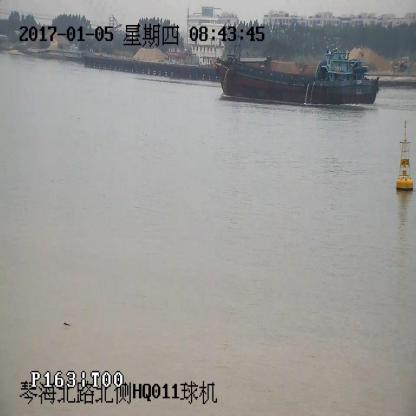Bulk Carrier: (217, 45, 378, 104)
